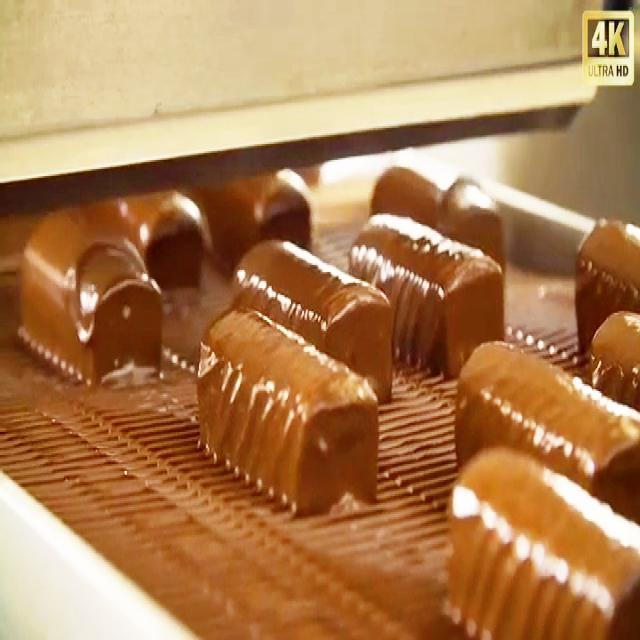Choco: (195, 300, 380, 516), (444, 444, 638, 636), (453, 334, 638, 521), (8, 210, 168, 392), (230, 235, 394, 400), (348, 208, 504, 373), (371, 155, 523, 255), (104, 201, 214, 280), (563, 295, 640, 389), (571, 210, 640, 314), (228, 183, 320, 250)
